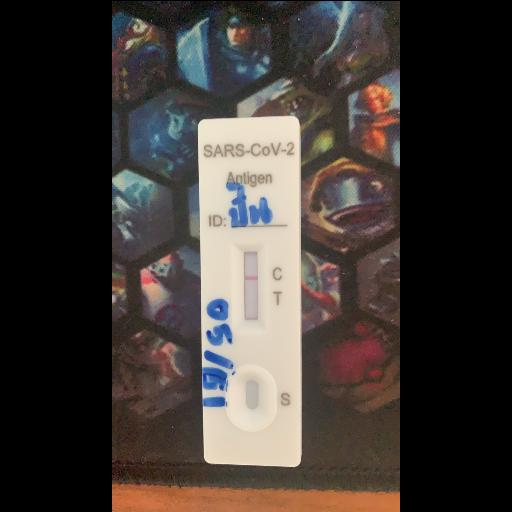Neg: (198, 118, 300, 464)
